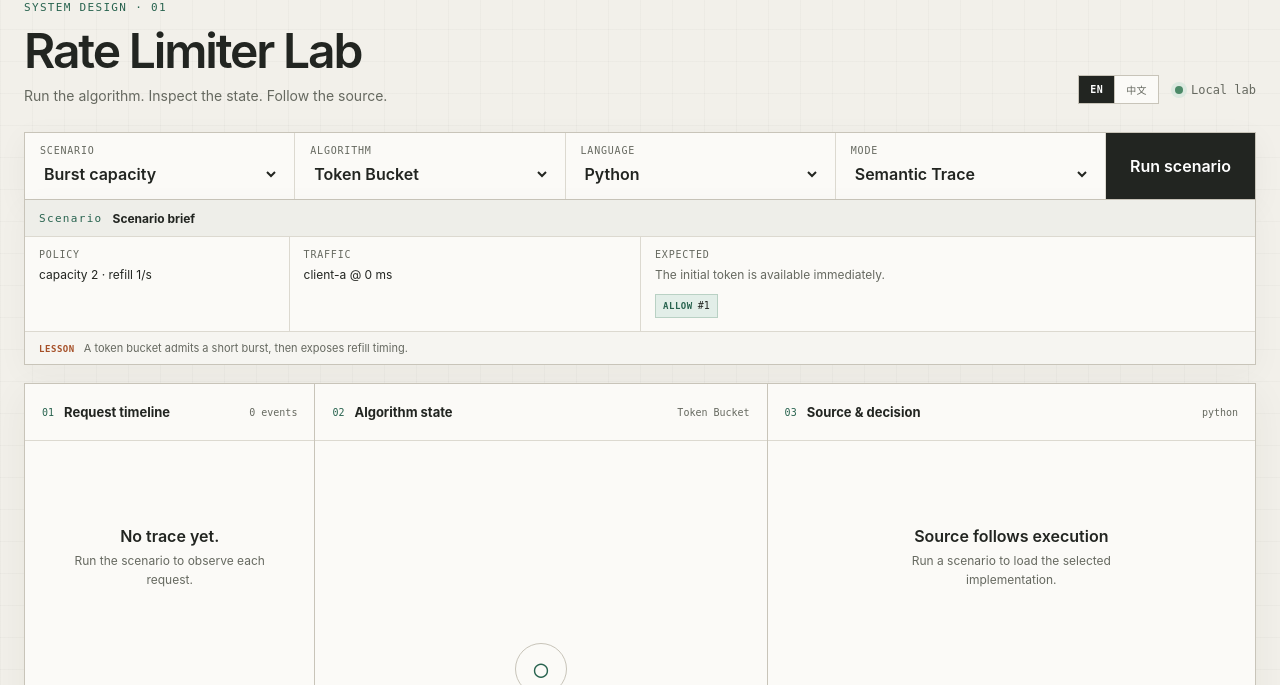
Rate Limiter Lab › drives a real Go debug session through create, next, and stop
Select "Go Debug" in the dropdown labelled "Mode" at (970, 174), box [851,160,1090,188]
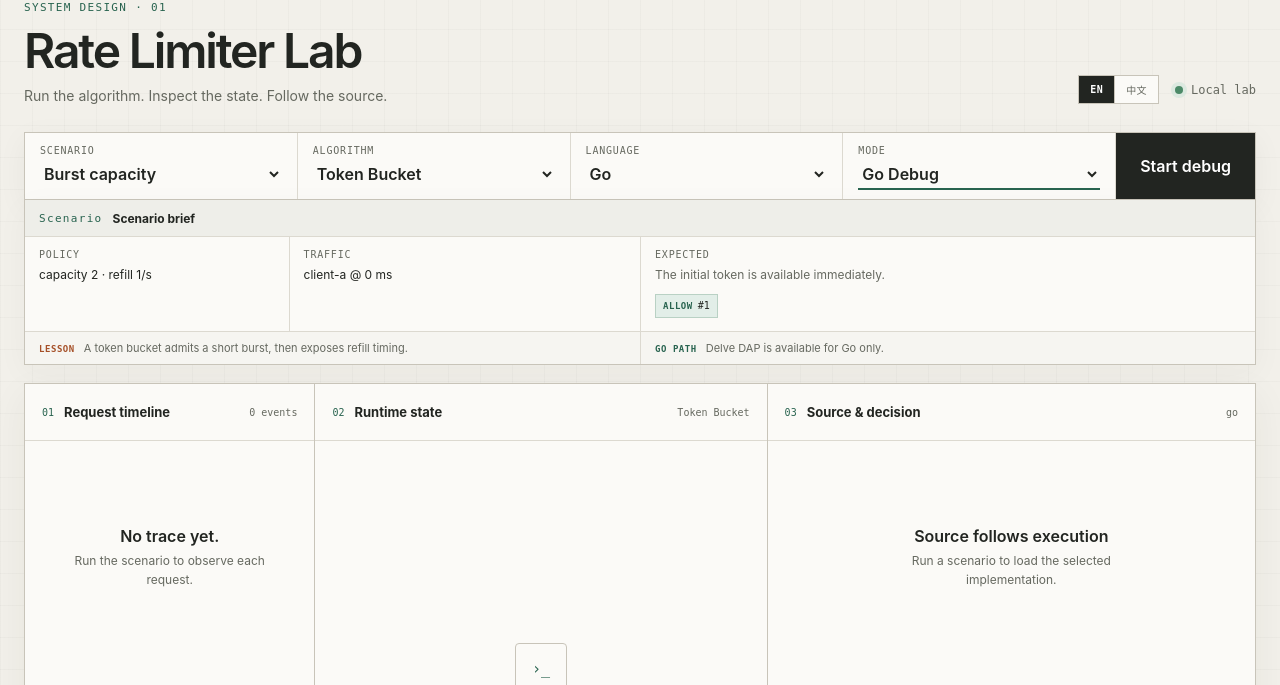
Click the button "Start debug" at (1186, 166), box [1116,133,1255,199]
(page scrolled)
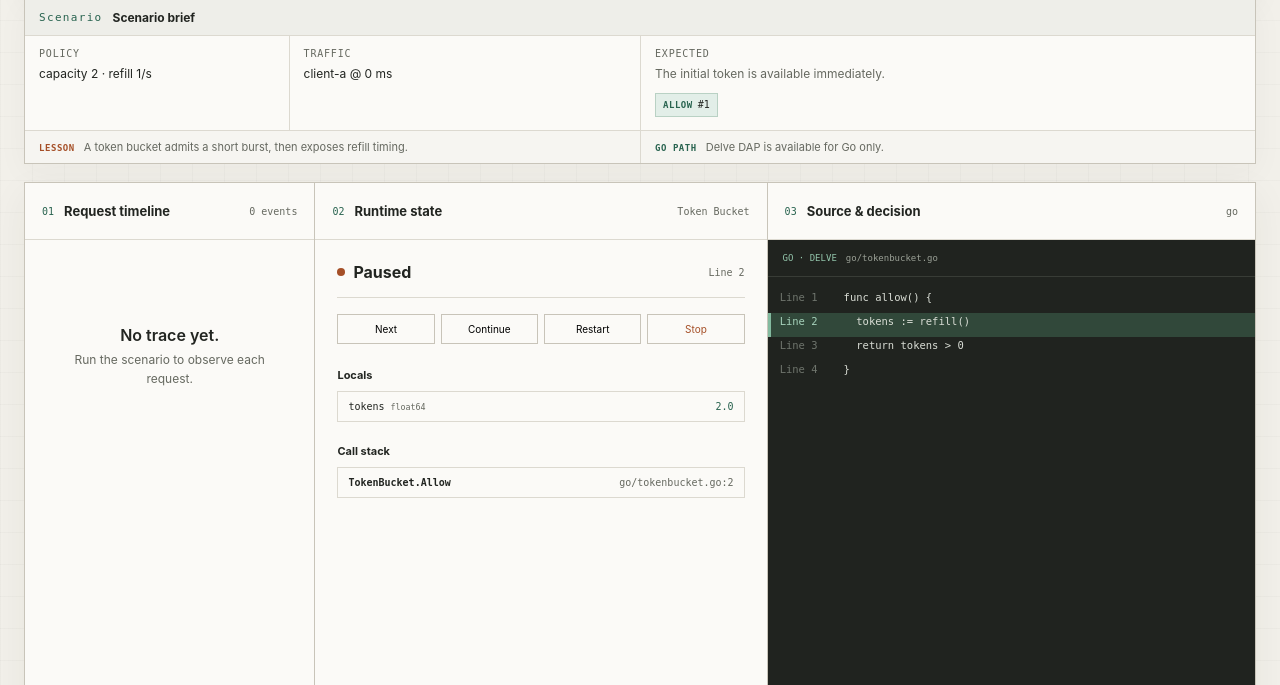
expect the text "TokenBucket.Allow" is shown: met, box [348,477,451,488]
expect the text "2.0" is shown: met, box [716,401,734,412]
Click the button "Next" at (386, 329), box [337,314,435,344]
(page scrolled)
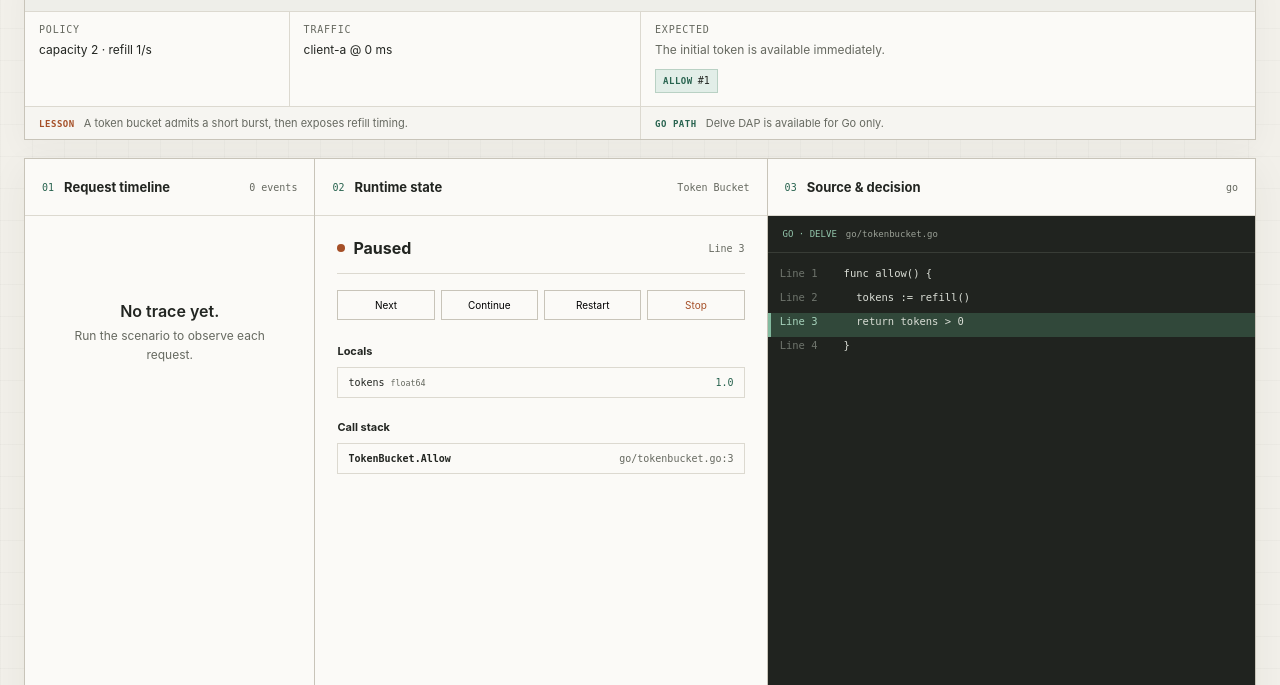
expect the text "1.0" is shown: met, box [716,377,734,388]
Click the button "Stop" at (696, 305), box [647,290,745,320]
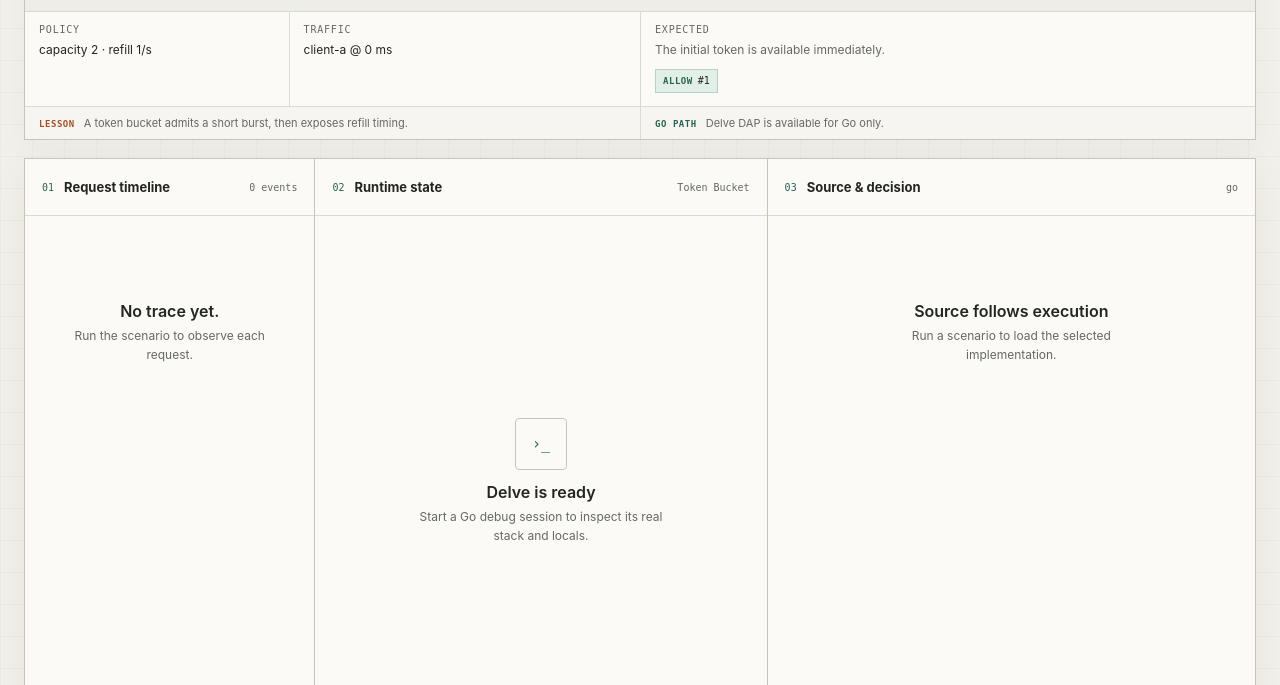
expect the text "Delve is ready" is shown: met, box [486,482,596,502]
